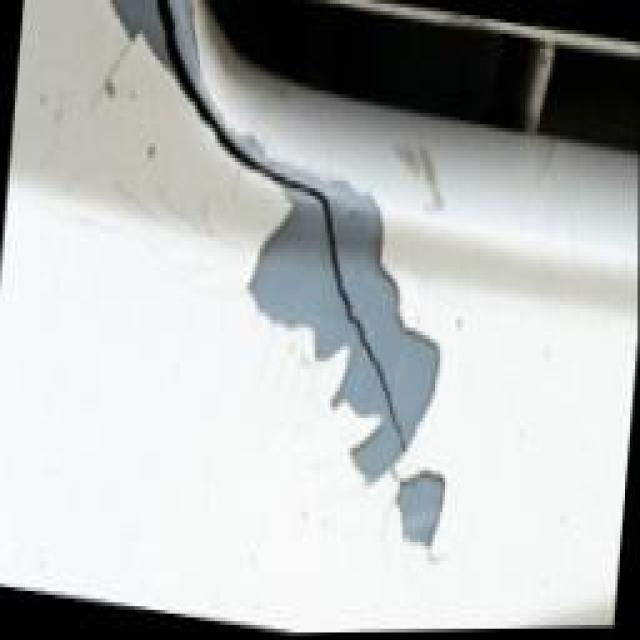Bumper: (8, 0, 640, 640)
